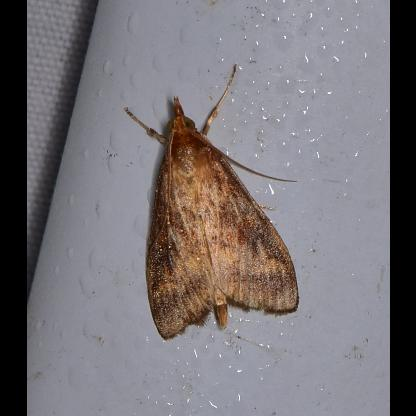Asian Corn Borer Moth: (121, 60, 303, 344)
